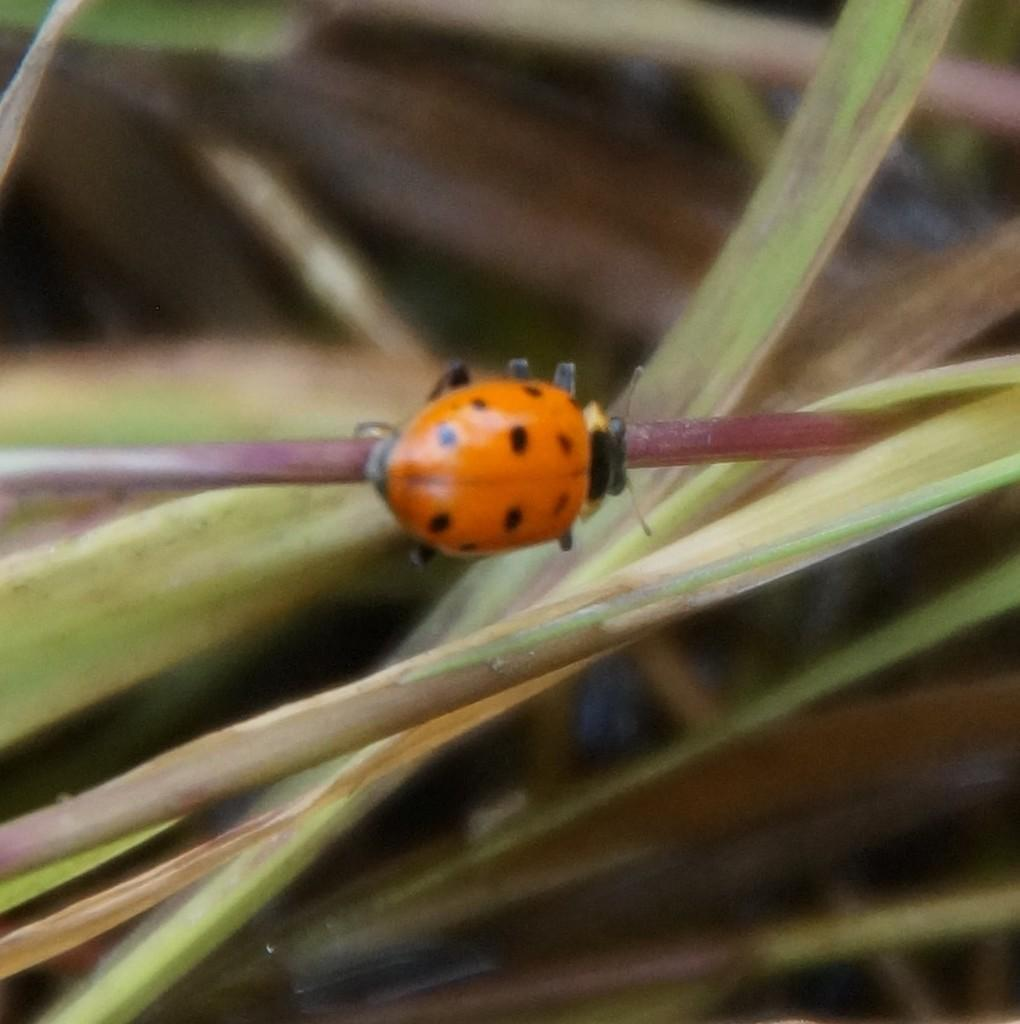ladybug: (354, 354, 661, 571)
